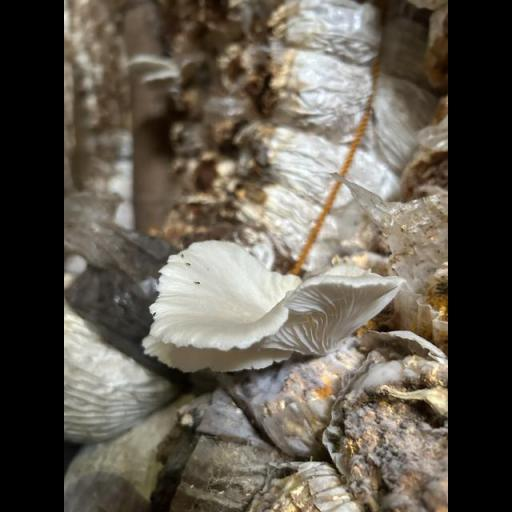White Oyster Mushroom: (144, 237, 402, 383)
